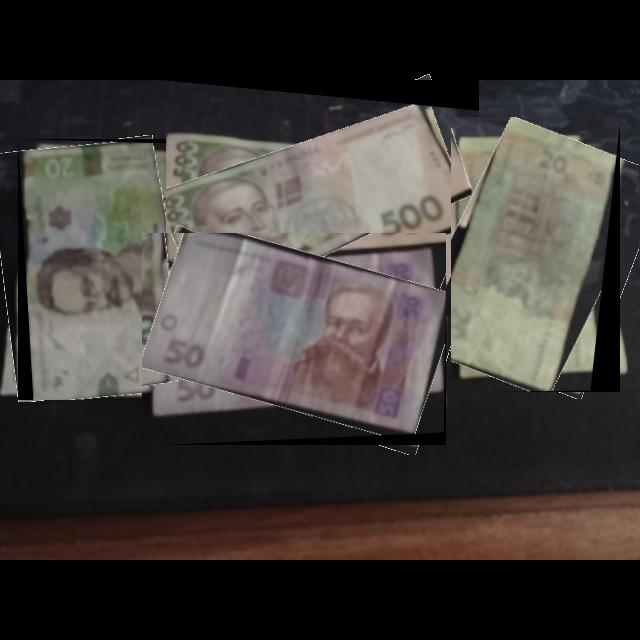20uah: (451, 117, 618, 391), (24, 143, 167, 401)
500uah: (159, 99, 475, 317)
50uah: (142, 233, 447, 437)
